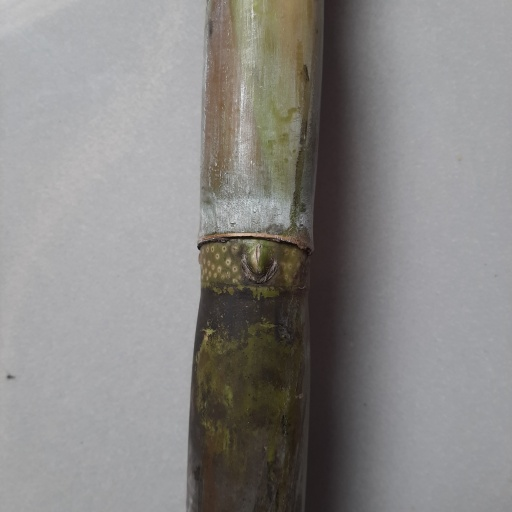Bud: (242, 244, 275, 280)
